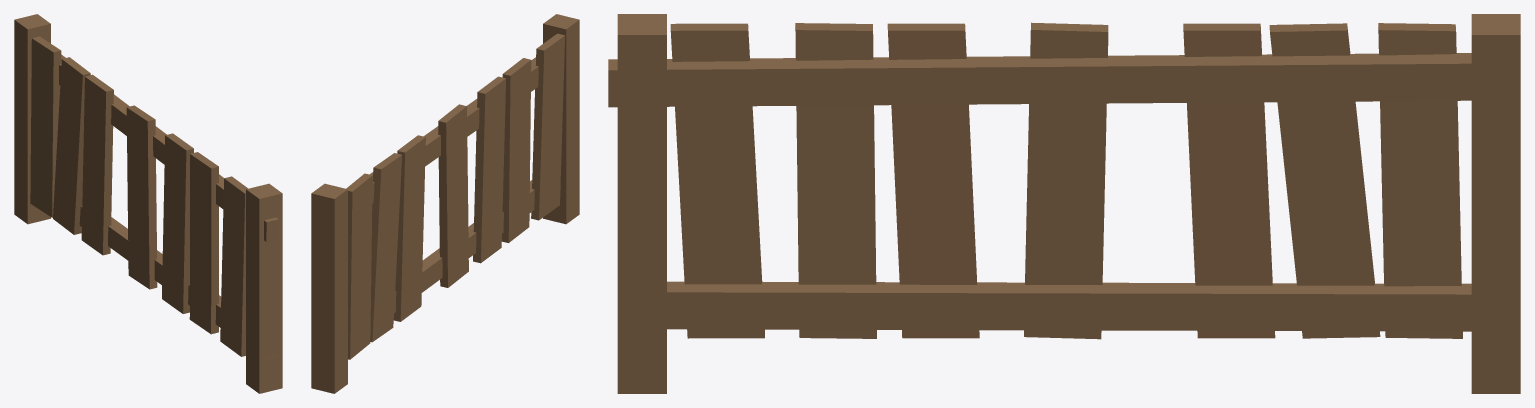
The model's file is fencePlaceholder.glb.
3 renders of one model, left to right at view 1: azimuth 30°, elevation 25°; view 2: azimuth 150°, elevation 25°; view 3: azimuth 270°, elevation 25°, orthographic. The views are drawn at different scales.
Visible parts, largest first — view 1: Cube.008; view 2: Cube.008; view 3: Cube.008.
Boxes of the visible parts, left/top/right/bottom form: Cube.008: left=14, top=14, right=282, bottom=393; Cube.008: left=311, top=14, right=579, bottom=393; Cube.008: left=608, top=14, right=1520, bottom=393.
Size of the model in its own units: 0.9066 by 7.23 by 16.65.
